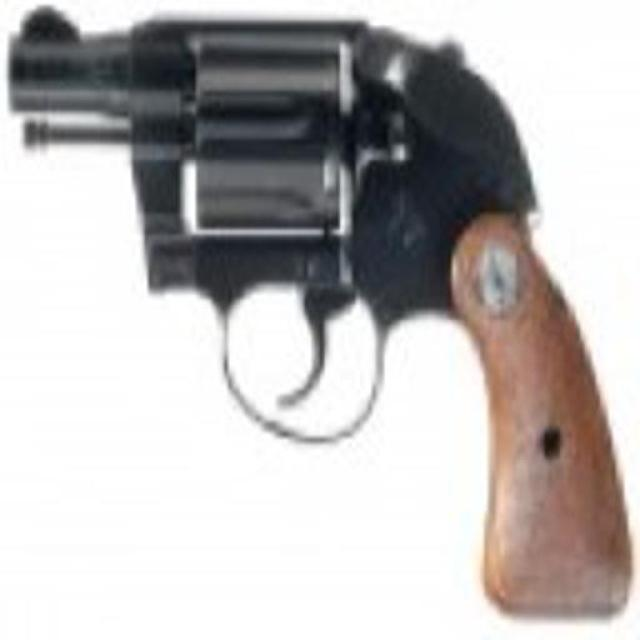pistol: (11, 5, 635, 617)
